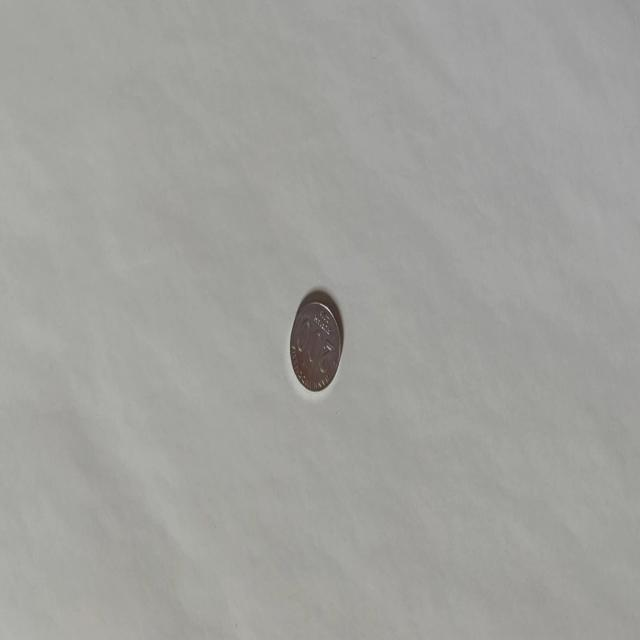dua ratus rupiah: (288, 297, 342, 393)
